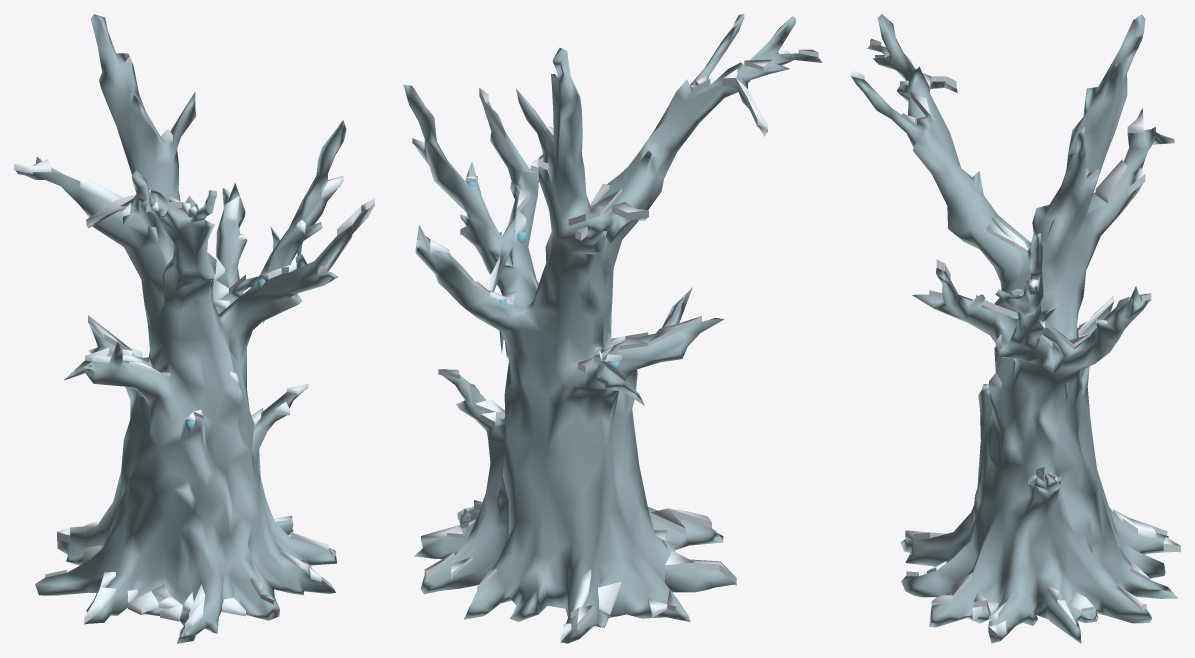
Rendered from FirstRoom_AncientTree.fbx.
3 views of the same model, side by side, from view 1: azimuth 30°, elevation 25°; view 2: azimuth 150°, elevation 25°; view 3: azimuth 270°, elevation 25° (orthographic). The views are drawn at different scales.
Parts seen in each view (by area): view 1: FirstRoom_AncientTree_LOD0; view 2: FirstRoom_AncientTree_LOD0; view 3: FirstRoom_AncientTree_LOD0.
Boxes of the visible parts, left/top/right/bottom form: FirstRoom_AncientTree_LOD0: left=14, top=14, right=374, bottom=643; FirstRoom_AncientTree_LOD0: left=403, top=14, right=822, bottom=643; FirstRoom_AncientTree_LOD0: left=851, top=14, right=1180, bottom=643.
Size of what is drawn, in the model's own units: 3.56 by 6 by 3.27.
